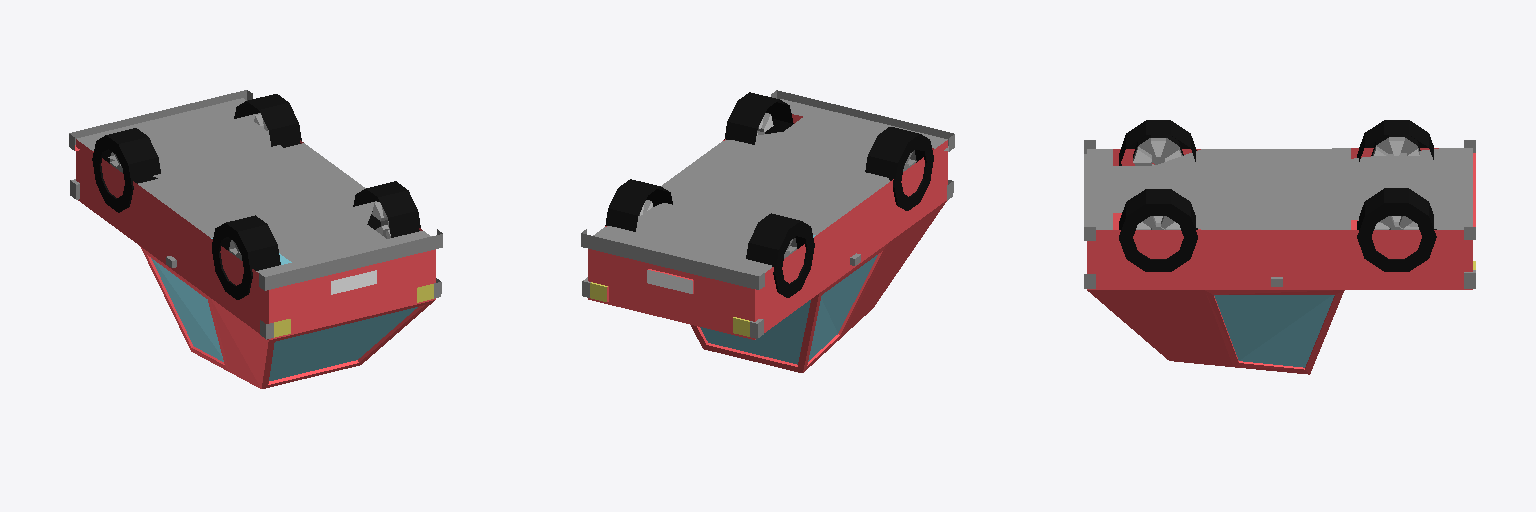
Rendered from car.obj.
The picture shows the model from 3 angles: view 1: azimuth 30°, elevation 25°; view 2: azimuth 150°, elevation 25°; view 3: azimuth 270°, elevation 25°; orthographic projection.
Parts seen in each view (by area): view 1: Cube.001_Cube.002; view 2: Cube.001_Cube.002; view 3: Cube.001_Cube.002.
Part boxes in pixels (left/top/right/bottom): Cube.001_Cube.002: left=69, top=90, right=442, bottom=388; Cube.001_Cube.002: left=581, top=90, right=954, bottom=372; Cube.001_Cube.002: left=1084, top=120, right=1475, bottom=374.
Bounding box in the file's own units: 2.13 × 2.16 × 4.06.